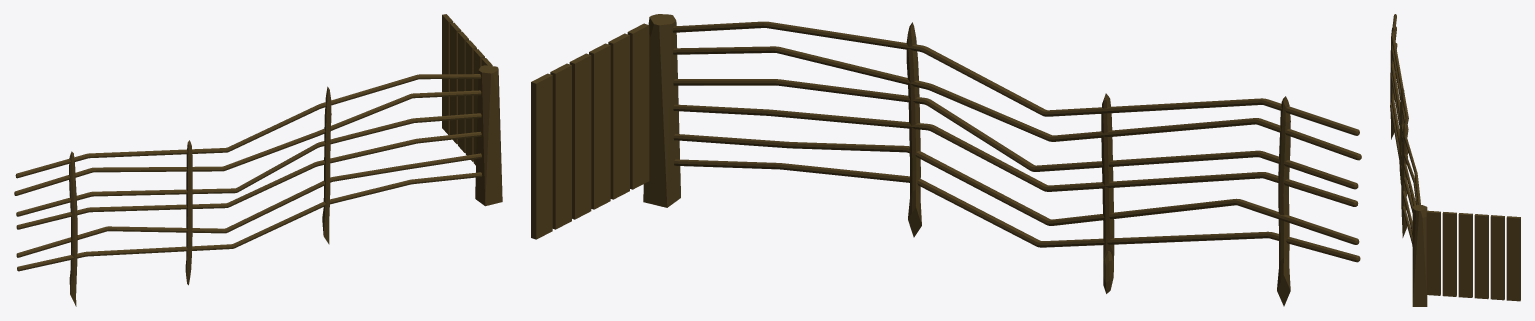
Rendered from Citler.fbx.
3 renders of one model, left to right at view 1: azimuth 30°, elevation 25°; view 2: azimuth 150°, elevation 25°; view 3: azimuth 270°, elevation 25°, orthographic. The views are drawn at different scales.
Parts seen in each view (by area): view 1: Pole1.001, LeftFDoor, Pole; view 2: Pole1.001, LeftFDoor, Pole; view 3: LeftFDoor, Pole1.001, Pole.
Boxes of the visible parts, x1,y1,x2,y2 form: Pole1.001: (14, 74, 482, 306); LeftFDoor: (442, 14, 492, 165); Pole: (475, 65, 502, 206); Pole1.001: (672, 21, 1361, 306); LeftFDoor: (531, 23, 649, 239); Pole: (643, 14, 680, 207); LeftFDoor: (1426, 210, 1520, 301); Pole1.001: (1390, 14, 1420, 246); Pole: (1412, 205, 1427, 306).
Bounding box in the file's own units: 1487 × 465 × 446.
